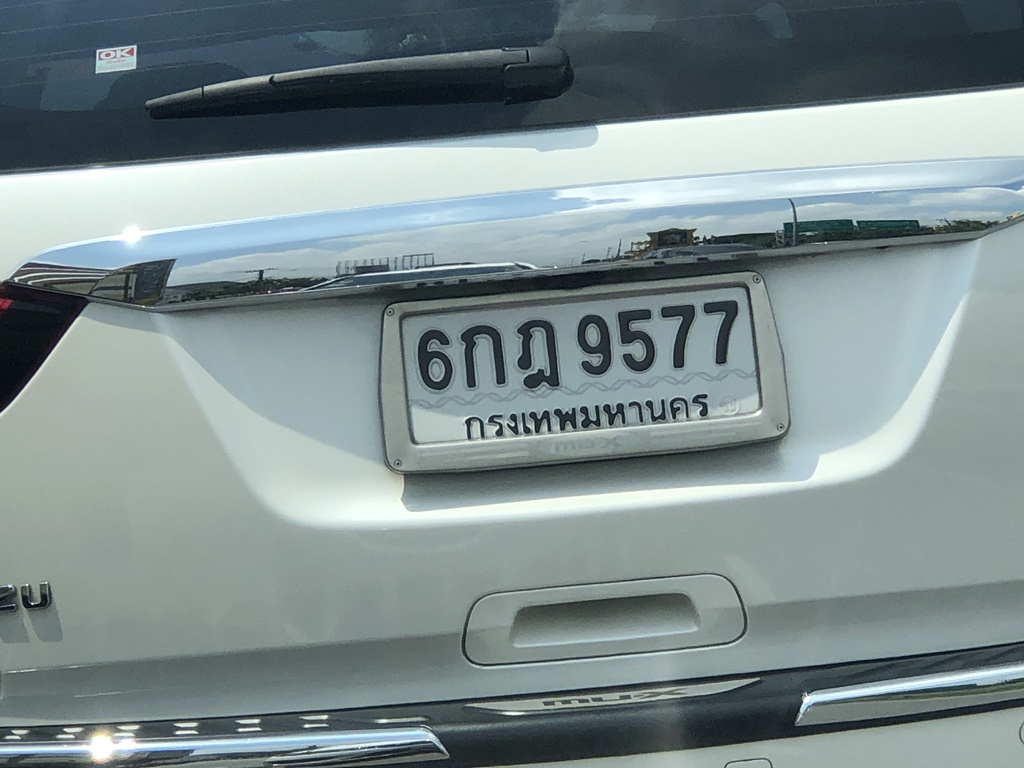five: (618, 301, 660, 382)
nine: (564, 301, 621, 385)
seven: (702, 286, 744, 374), (659, 297, 702, 376)
six: (407, 314, 458, 398)
